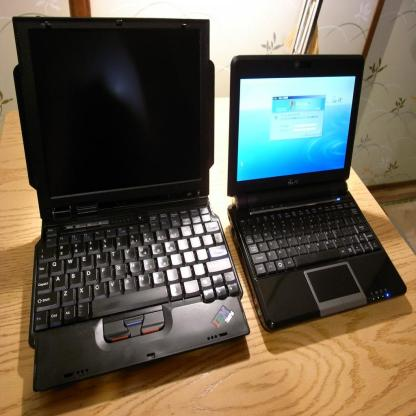board: (20, 13, 250, 387), (228, 56, 407, 333)
